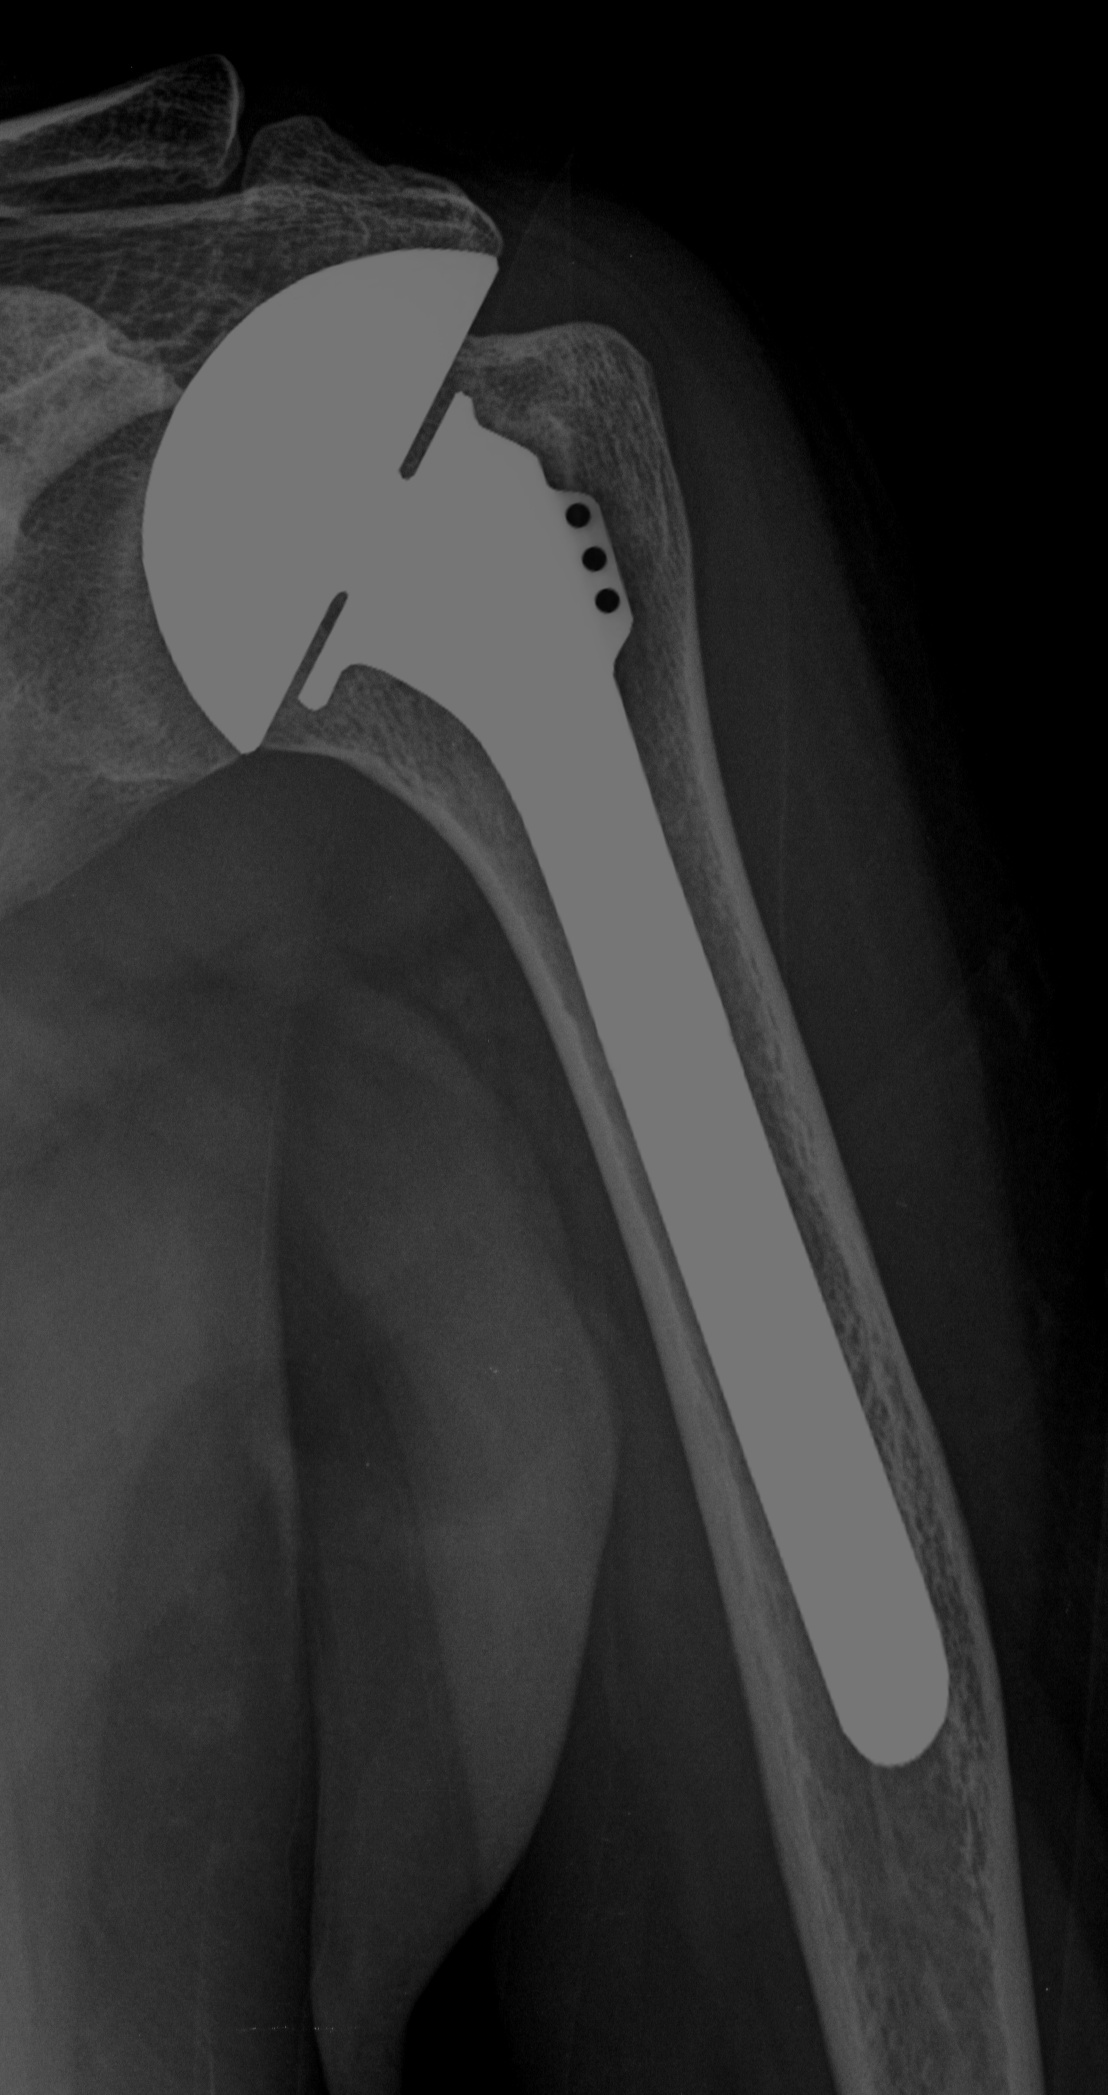Shoulder-Olympia-Wright: (96, 204, 968, 1771)
